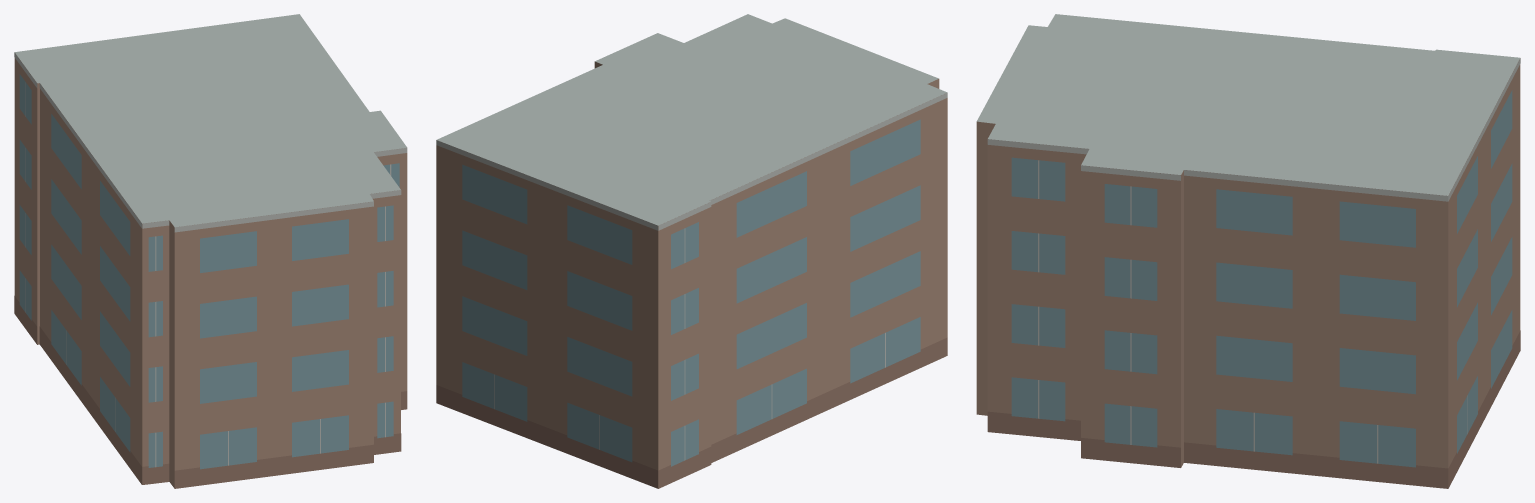
File: survey-upis-32923332.glb
The picture shows the model from 3 angles, left to right: view 1: azimuth 30°, elevation 25°; view 2: azimuth 150°, elevation 25°; view 3: azimuth 270°, elevation 25°; orthographic projection. The views are drawn at different scales.
Visible parts, largest first — view 1: survey-upis-32923332.tmp; view 2: survey-upis-32923332.tmp; view 3: survey-upis-32923332.tmp.
Part boxes in pixels (bbox=[...]): survey-upis-32923332.tmp: bbox=[14, 14, 407, 488]; survey-upis-32923332.tmp: bbox=[436, 14, 947, 488]; survey-upis-32923332.tmp: bbox=[976, 14, 1520, 488].
Bounding box in the file's own units: 16.52 × 12.4 × 20.87.
